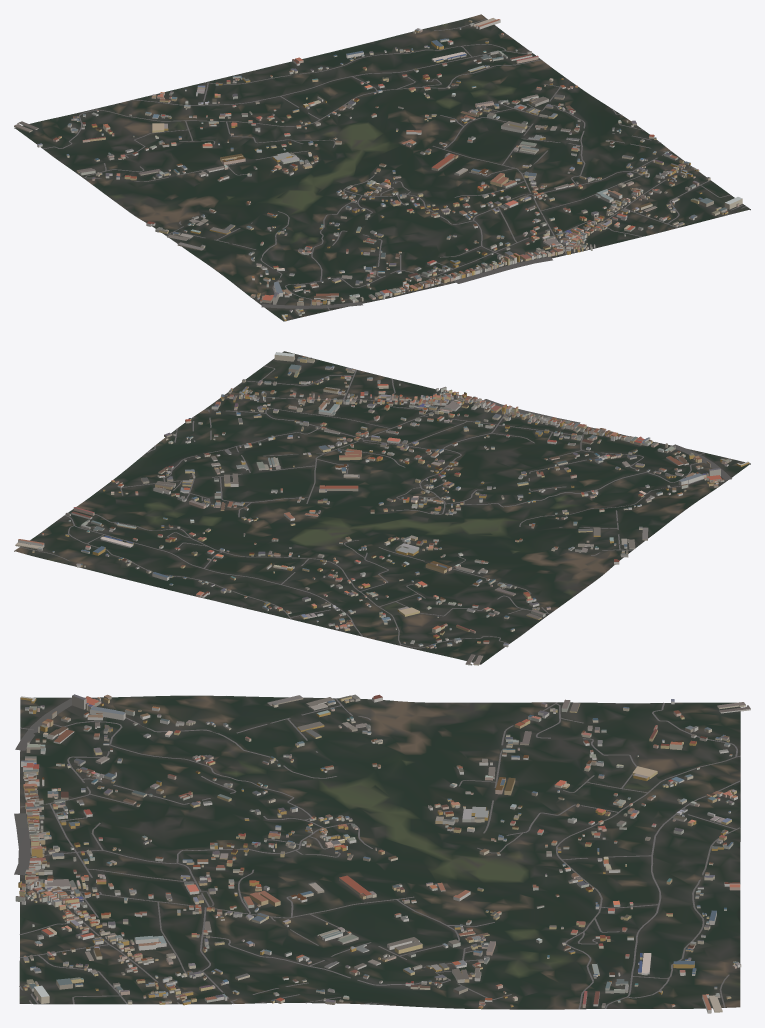
3 renders of one model, top to bottom at view 1: azimuth 30°, elevation 25°; view 2: azimuth 150°, elevation 25°; view 3: azimuth 270°, elevation 25°, orthographic. The views are drawn at different scales.
Parts seen in each view (by area): view 1: ground, buildings, roads; view 2: ground, buildings, roads; view 3: ground, buildings, roads.
Part boxes in pixels (x1,y1,x2,y2): ground: [14, 14, 750, 321]; buildings: [14, 18, 742, 321]; roads: [43, 18, 746, 310]; ground: [14, 351, 750, 664]; buildings: [15, 352, 749, 665]; roads: [20, 357, 731, 648]; ground: [19, 695, 740, 1009]; buildings: [15, 694, 750, 1013]; roads: [14, 698, 740, 1009].
Bounding box in the file's own units: 1432 × 39.98 × 1434.
